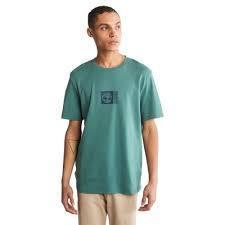Tshirt: (61, 54, 164, 196)
